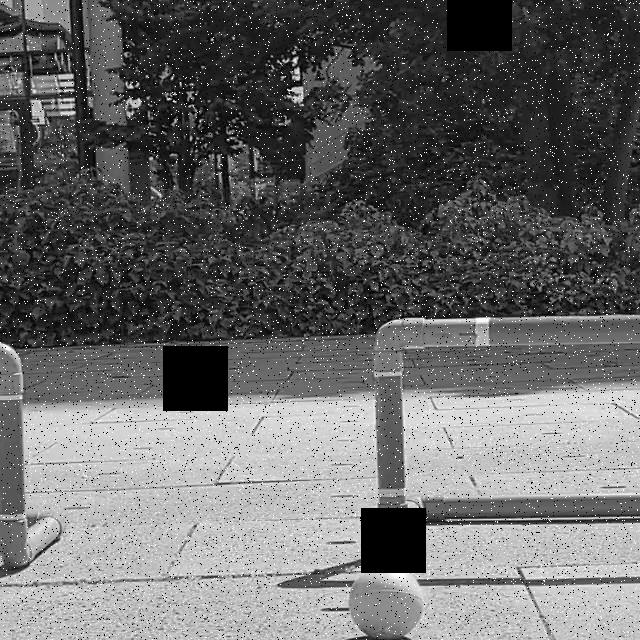ball: (343, 559, 428, 640)
